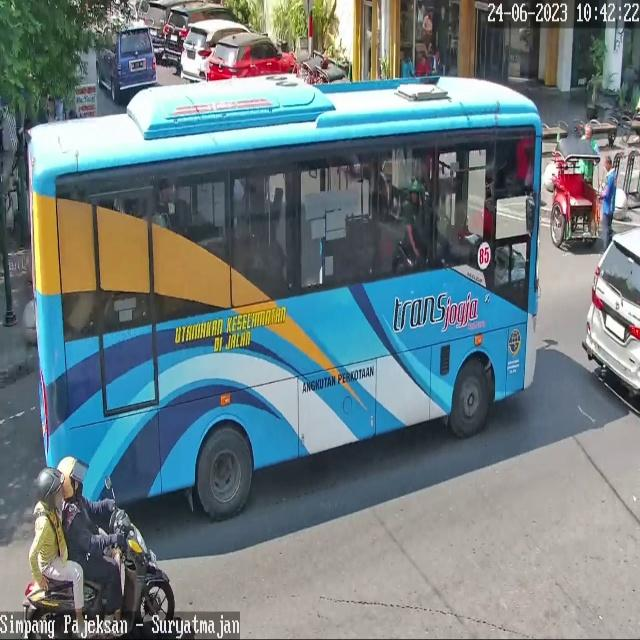bus: (24, 504, 176, 640)
car: (27, 74, 543, 522)
motorcycle: (581, 228, 640, 400), (96, 20, 158, 101), (163, 3, 246, 63), (206, 33, 300, 81), (180, 21, 252, 80), (143, 0, 169, 53)
